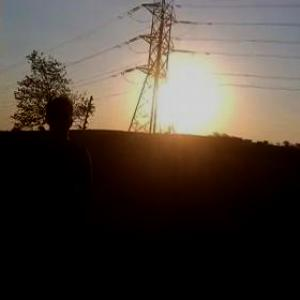follow: (9, 90, 99, 299)
